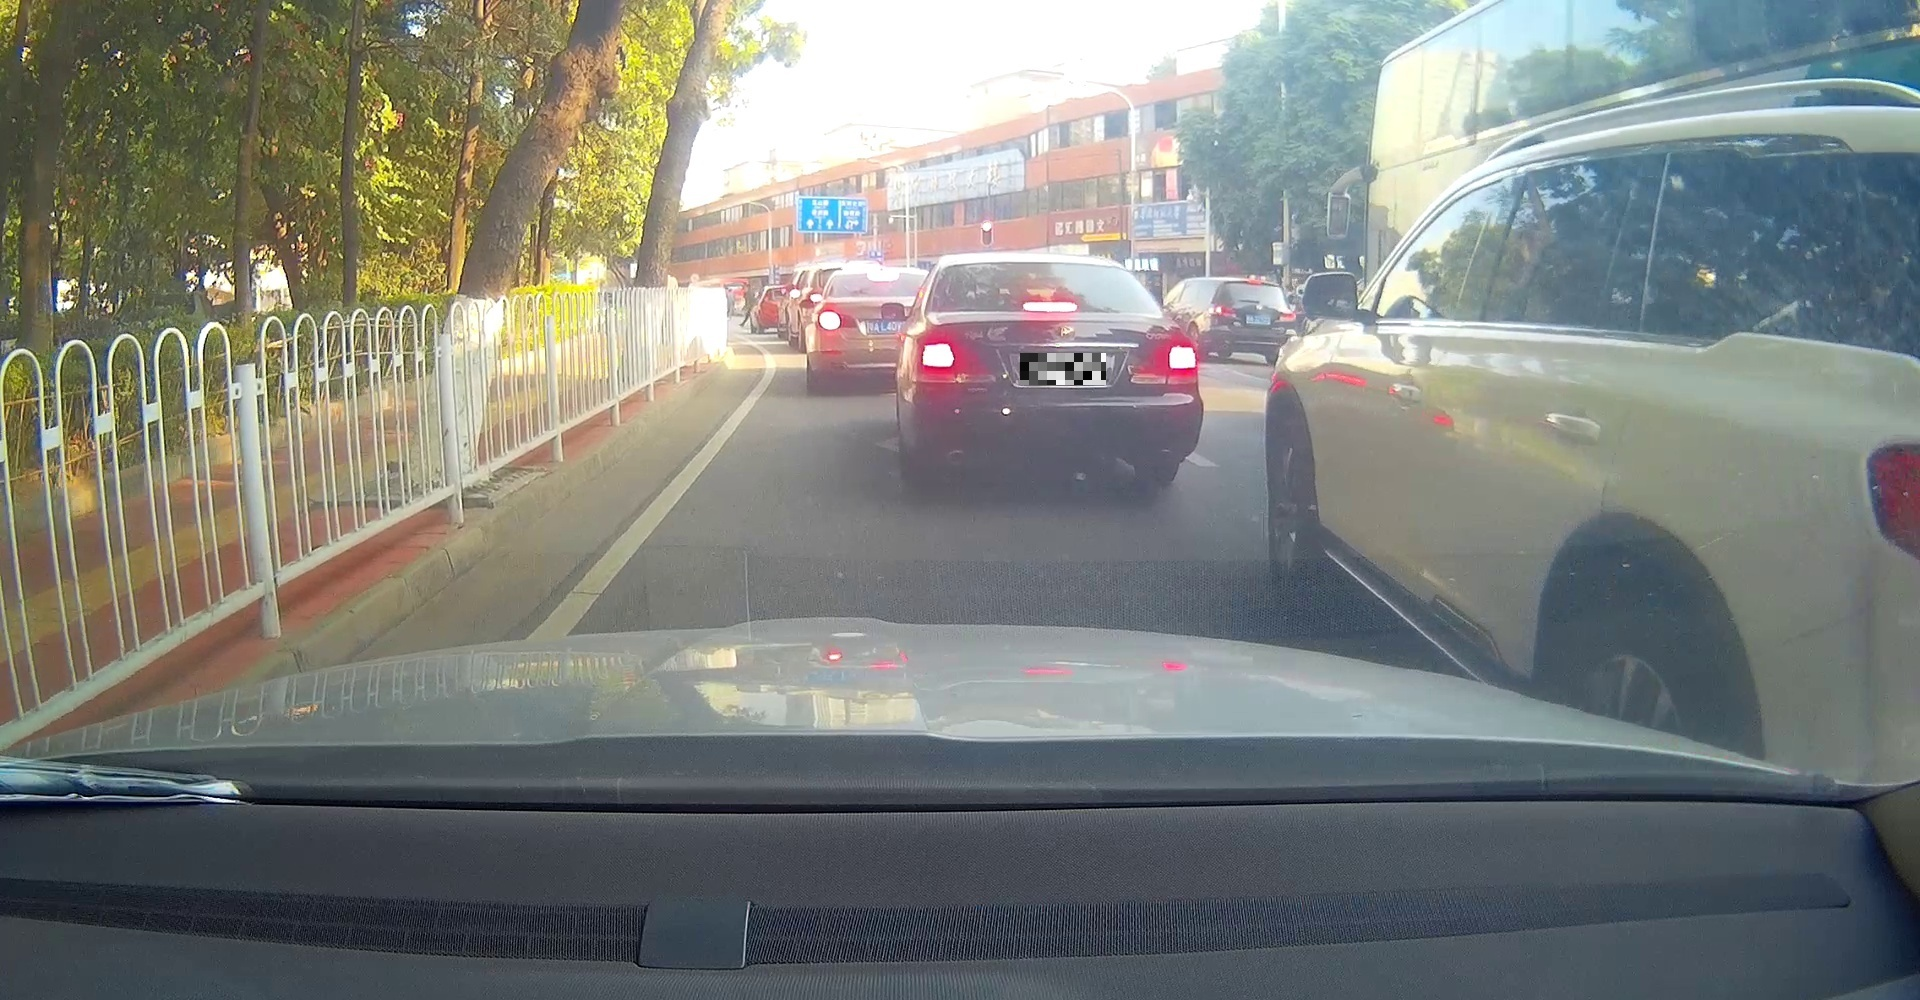L_light: (918, 338, 968, 373), (1208, 305, 1236, 317)
R_light: (1152, 341, 1197, 376), (1277, 308, 1297, 321)
T_light: (1021, 301, 1077, 312), (1247, 280, 1261, 286)
day-brake: (917, 253, 1197, 482), (1208, 279, 1297, 362)
plate_1: (1020, 353, 1106, 385)
